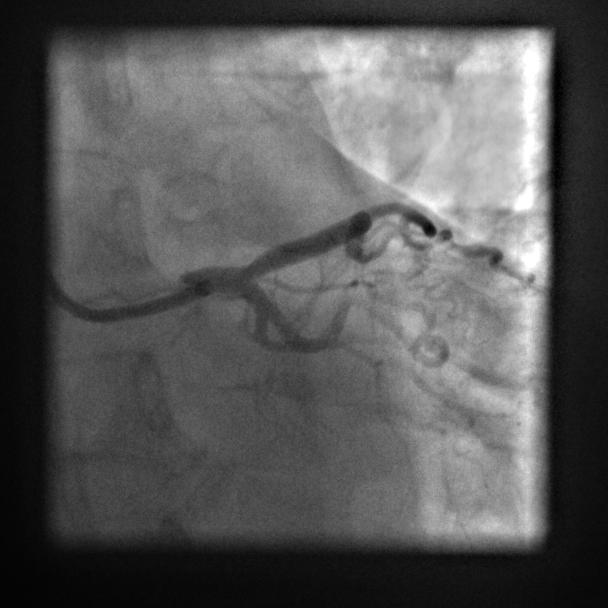Stenosis: (224, 254, 273, 282)
